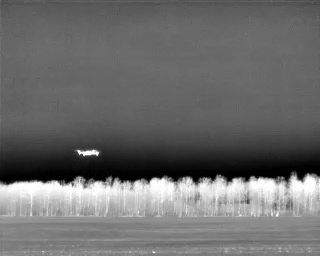DRONE: (71, 144, 104, 161)
